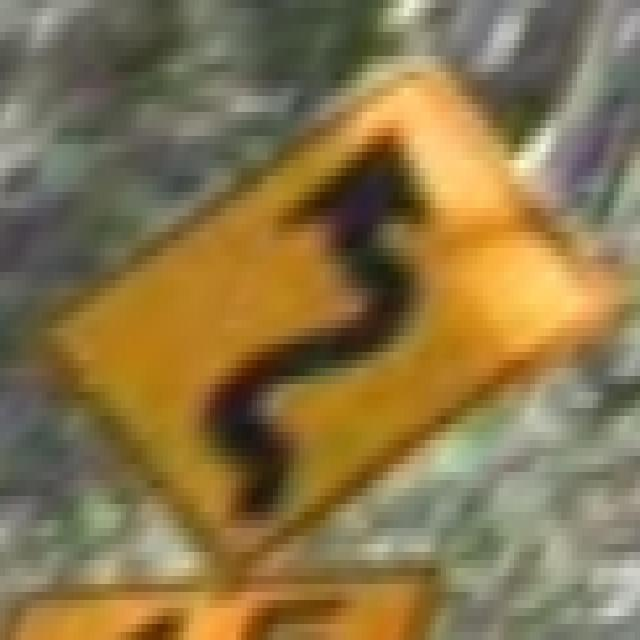Banyak Tikungan Pertama Kiri: (26, 32, 625, 584)
